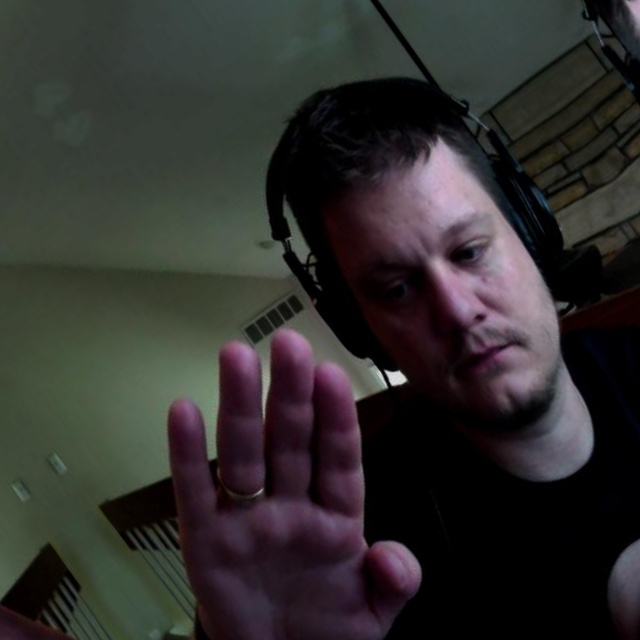Paper: (63, 288, 506, 640)
